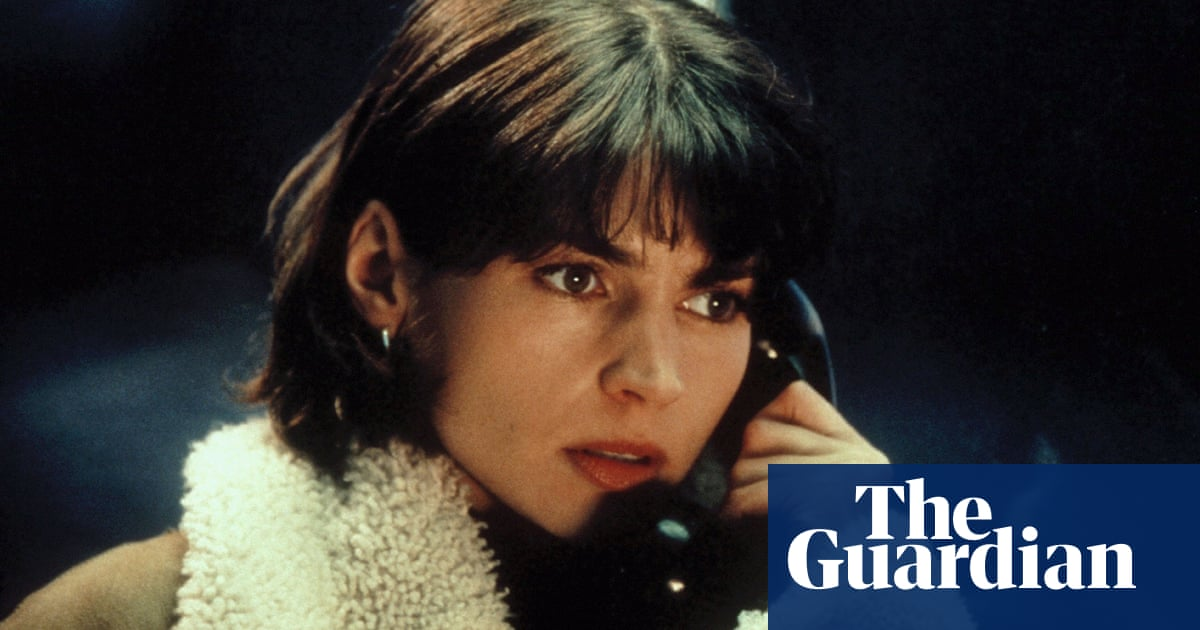bare: (444, 329, 734, 537)
